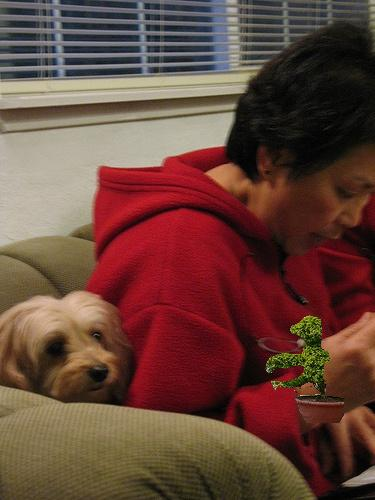tampered: (266, 316, 344, 423)
